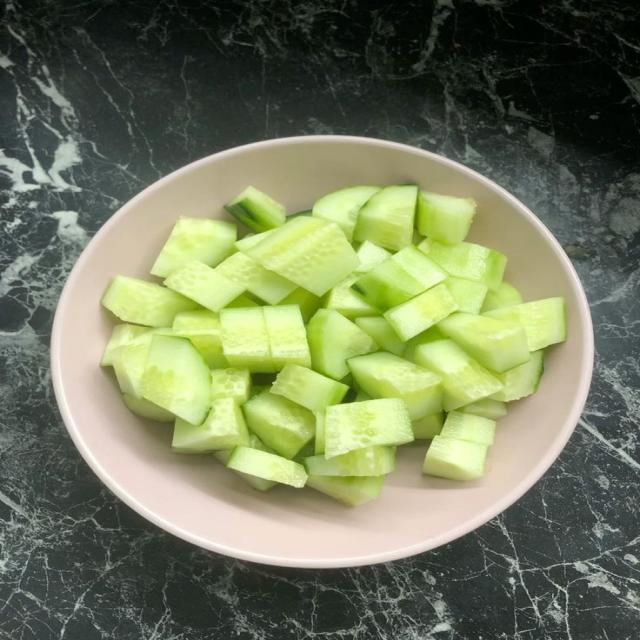cucumber sliced: (247, 218, 359, 295), (347, 352, 442, 420), (414, 339, 502, 411), (141, 335, 210, 425), (353, 246, 446, 310), (439, 313, 530, 372), (325, 398, 413, 458), (151, 218, 236, 277), (307, 309, 377, 380), (101, 276, 199, 326), (242, 391, 315, 458), (419, 238, 506, 290), (484, 298, 566, 351), (172, 398, 249, 453), (354, 185, 418, 251), (112, 328, 173, 397), (216, 252, 296, 304), (384, 284, 458, 340), (165, 259, 244, 311), (241, 218, 326, 264), (312, 186, 380, 241), (271, 364, 348, 411), (220, 307, 273, 372), (227, 446, 306, 487), (263, 305, 311, 370), (174, 310, 227, 368), (417, 192, 476, 244), (423, 436, 486, 480), (303, 446, 395, 476), (226, 187, 286, 232), (492, 350, 543, 401), (112, 334, 153, 397), (324, 275, 379, 319), (307, 476, 386, 506), (100, 324, 150, 366), (354, 317, 405, 356), (440, 412, 495, 445), (402, 326, 446, 361), (445, 277, 487, 313), (211, 368, 251, 404), (123, 394, 174, 422), (280, 288, 322, 322), (481, 282, 523, 312), (355, 241, 391, 274), (458, 398, 506, 420), (232, 470, 277, 491), (413, 412, 444, 439), (235, 230, 273, 251), (226, 293, 263, 308), (314, 410, 325, 454), (294, 441, 314, 463), (250, 384, 270, 398), (354, 389, 373, 402), (287, 210, 312, 219)
